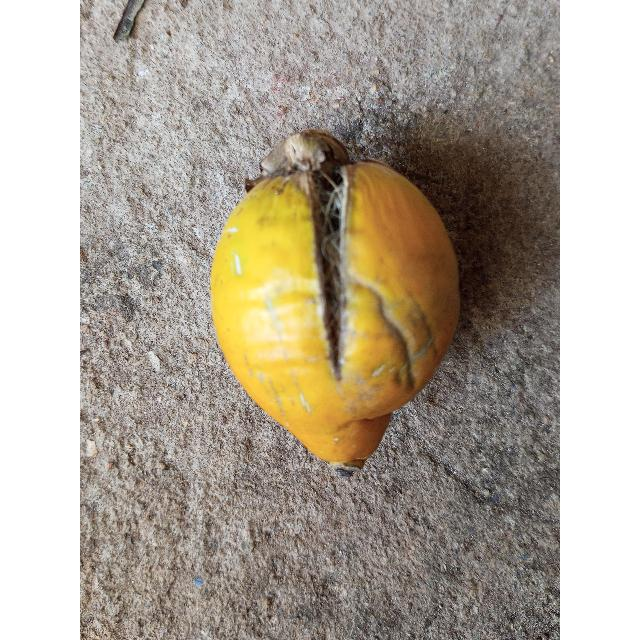damaged: (210, 130, 461, 471)
